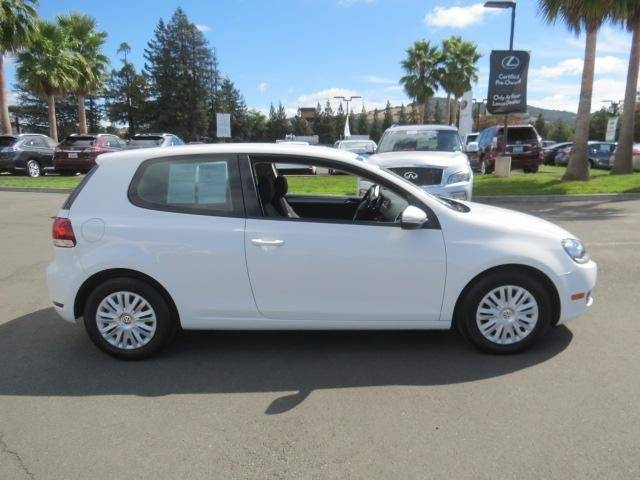car: (47, 146, 596, 357), (358, 120, 470, 202), (472, 124, 543, 175), (53, 131, 125, 178), (1, 131, 54, 175)
